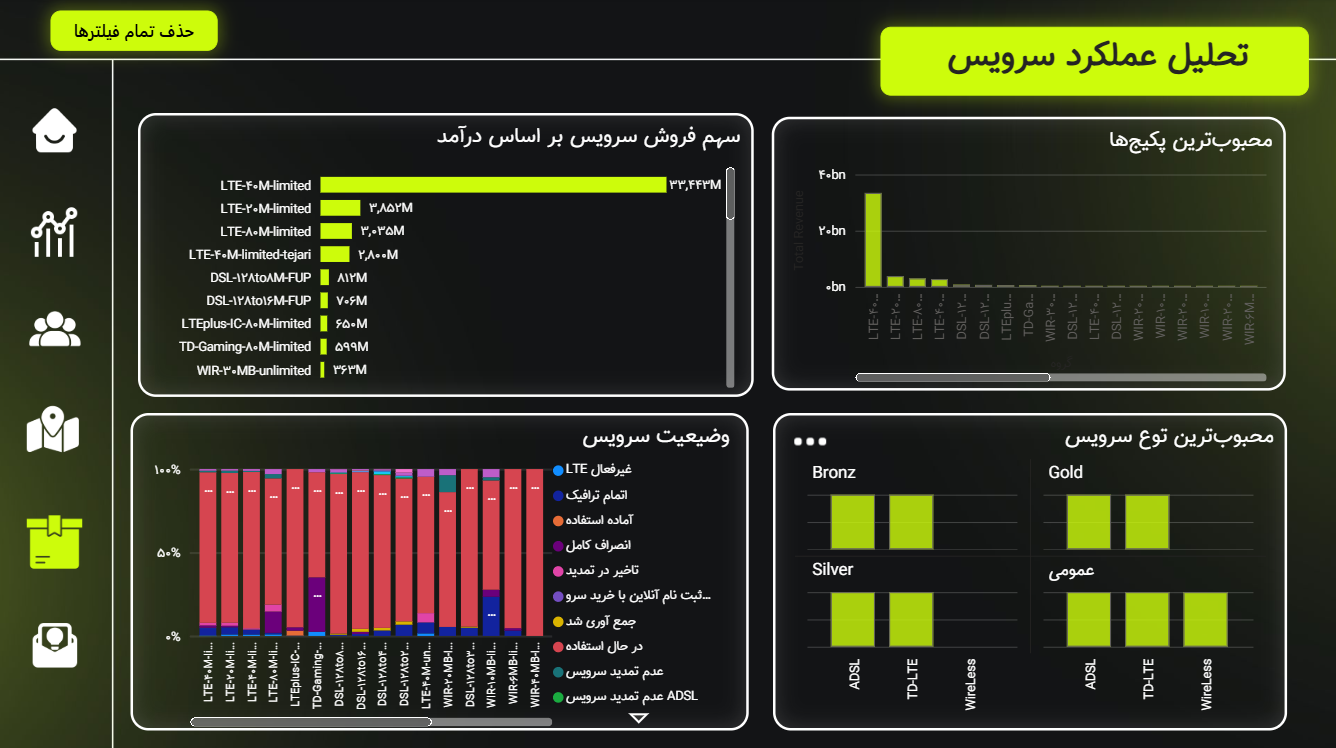

What the dashboard file says about the page in this screenshot:
{"tool":"powerbi","page":{"name":"Page 1","canvas":[1280,720],"ordinal":1},"visuals":[{"type":"group","id":"g1","title":"UI_Background","box":[0,0,1279.6,720.7],"z":0},{"type":"shape","title":"Shape_Up","box":[0,0,1280.3,60.4],"z":0,"group":"g1"},{"type":"shape","box":[388,136,227,136],"z":0,"group":"g4"},{"type":"shape","box":[141,137,228,136],"z":0,"group":"g2"},{"type":"shape","title":"Shape_Left","box":[0,56.3,109.8,664.2],"z":1000,"group":"g1"},{"type":"group","id":"g2","title":"Cared_1","box":[141,131,228,142],"z":1000,"group":"g3"},{"type":"shape","title":"Shape_Cared_1","box":[154.6,151.8,10.8,58],"z":1000,"group":"g2"},{"type":"shape","title":"Shape_Cared_1","box":[403.3,162.3,10.3,53.5],"z":1000,"group":"g4"},{"type":"group","id":"g3","title":"G_Users","box":[140,23,1106,626.4],"z":2000},{"type":"image","title":"Btn_Home","box":[20.2,98.8,67.9,54.8],"z":2000,"group":"g1"},{"type":"textbox","title":"Title_Cared_1","box":[165.7,131,168.5,46.1],"z":2000,"group":"g2"},{"type":"group","id":"g4","title":"Cared_2","box":[388,136,227,136],"z":2000,"group":"g3"},{"type":"textbox","title":"Title_Cared_1","box":[413.8,143.1,160.1,42.5],"z":2000,"group":"g4"},{"type":"shape","title":"Shape_Main","box":[109.5,59.5,1170.2,660.7],"z":3000,"group":"g1"},{"type":"card","title":"Profit_Cared_1","fields":{"Values":["Dim_Measure.Sales MoM %"]},"box":[155.1,218.6,43.5,33.3],"z":3000,"group":"g2"},{"type":"card","title":"Profit_Cared_1","fields":{"Values":["Dim_Measure.Profit MoM %"]},"box":[403.8,223.8,41.3,30.7],"z":3000,"group":"g4"},{"type":"clusteredBarChart","title":"پرفروش ترین سرویس","fields":{"Category":["Fact_Sales.نوع سرویس"],"Y":["Dim_Measure.Total Profit"]},"box":[636,137,610,504],"z":4000,"group":"g3"},{"type":"image","title":"Btn_Analytis","box":[25,188.1,57.1,69],"z":4000,"group":"g1"},{"type":"textbox","title":"Since_Of_Mounth_1","box":[192.9,216.8,120.5,38.5],"z":4000,"group":"g2"},{"type":"textbox","title":"Since_Of_Mounth_1","box":[439.7,222.2,114.5,35.5],"z":4000,"group":"g4"},{"type":"card","fields":{"Values":["Dim_Measure.Total Sales"]},"box":[162.7,165.8,185,61],"z":5000,"group":"g2"},{"type":"card","fields":{"Values":["Dim_Measure.Total Profit"]},"box":[406.9,173.8,162.1,57.1],"z":5000,"group":"g4"},{"type":"lineChart","title":"میزان فروش","fields":{"Y":["Dim_Measure.Total Profit","Dim_Measure.Total Sales"],"Category":["Dim_Date.jmonthT"]},"box":[140,309,475,333],"z":5000,"group":"g3"},{"type":"image","title":"Btn_Map","box":[25,385.7,57.1,57.1],"z":5000,"group":"g1"},{"type":"shape","title":"Box_Clear_All_Filter","box":[50.2,12.1,159.3,38.1],"z":6000,"group":"g1"},{"type":"textbox","title":"subject","box":[870.1,30.8,356.7,67.5],"z":6000,"group":"g3"},{"type":"shape","title":"Shape_Btn_Filter","box":[746.1,30.7,53,51],"z":7000,"group":"g3"},{"type":"image","title":"Btn_Package","box":[25,490.5,57.1,59.5],"z":7000,"group":"g1"},{"type":"shape","title":"Line_Left","box":[102.7,60.3,12.8,659.8],"z":8000,"group":"g1"},{"type":"image","title":"Btn_help","box":[24.7,590.1,57.6,52.1],"z":9000,"group":"g1"},{"type":"image","title":"Btn_Users","box":[22.6,285.7,63.1,58.3],"z":10000,"group":"g1"},{"type":"shape","title":"Line_UP","box":[0,53.4,1279.9,13.2],"z":11000,"group":"g1"},{"type":"shape","title":"Box_Subject","box":[840.5,27.4,407.9,65.3],"z":12000,"group":"g1"}]}

Visuals, with their boxes in screenshot pixels (x1, y1, x2, y2), scaled from the page's 1280x720 canvas onto the 1336x748 screenshot:
"UI_Background" group: [0,0,1335,747]
"Shape_Up" shape: [0,0,1335,63]
shape: [405,141,642,283]
shape: [147,142,385,284]
"Shape_Left" shape: [0,58,115,747]
"Cared_1" group: [147,136,385,284]
"Shape_Cared_1" shape: [161,158,173,218]
"Shape_Cared_1" shape: [421,169,432,224]
"G_Users" group: [146,24,1301,675]
"Btn_Home" image: [21,103,92,160]
"Title_Cared_1" textbox: [173,136,349,184]
"Cared_2" group: [405,141,642,283]
"Title_Cared_1" textbox: [432,149,599,193]
"Shape_Main" shape: [114,62,1335,747]
"Profit_Cared_1" card: [162,227,207,262]
"Profit_Cared_1" card: [421,233,465,264]
"پرفروش ترین سرویس" clusteredBarChart: [664,142,1301,666]
"Btn_Analytis" image: [26,195,86,267]
"Since_Of_Mounth_1" textbox: [201,225,327,265]
"Since_Of_Mounth_1" textbox: [459,231,578,268]
card - Dim_Measure.Total Sales: [170,172,363,236]
card - Dim_Measure.Total Profit: [425,181,594,240]
"میزان فروش" lineChart: [146,321,642,667]
"Btn_Map" image: [26,401,86,460]
"Box_Clear_All_Filter" shape: [52,13,219,52]
"subject" textbox: [908,32,1280,102]
"Shape_Btn_Filter" shape: [779,32,834,85]
"Btn_Package" image: [26,510,86,571]
"Line_Left" shape: [107,63,121,747]
"Btn_help" image: [26,613,86,667]
"Btn_Users" image: [24,297,89,357]
"Line_UP" shape: [0,55,1335,69]
"Box_Subject" shape: [877,28,1303,96]
